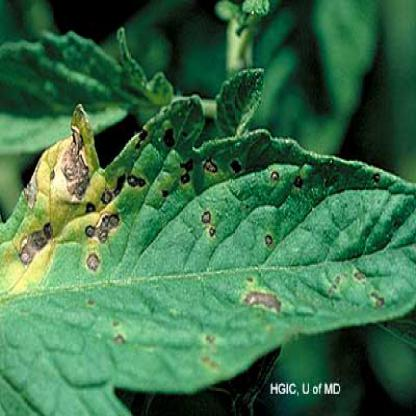tomato early blight leaf: (1, 108, 415, 383)
